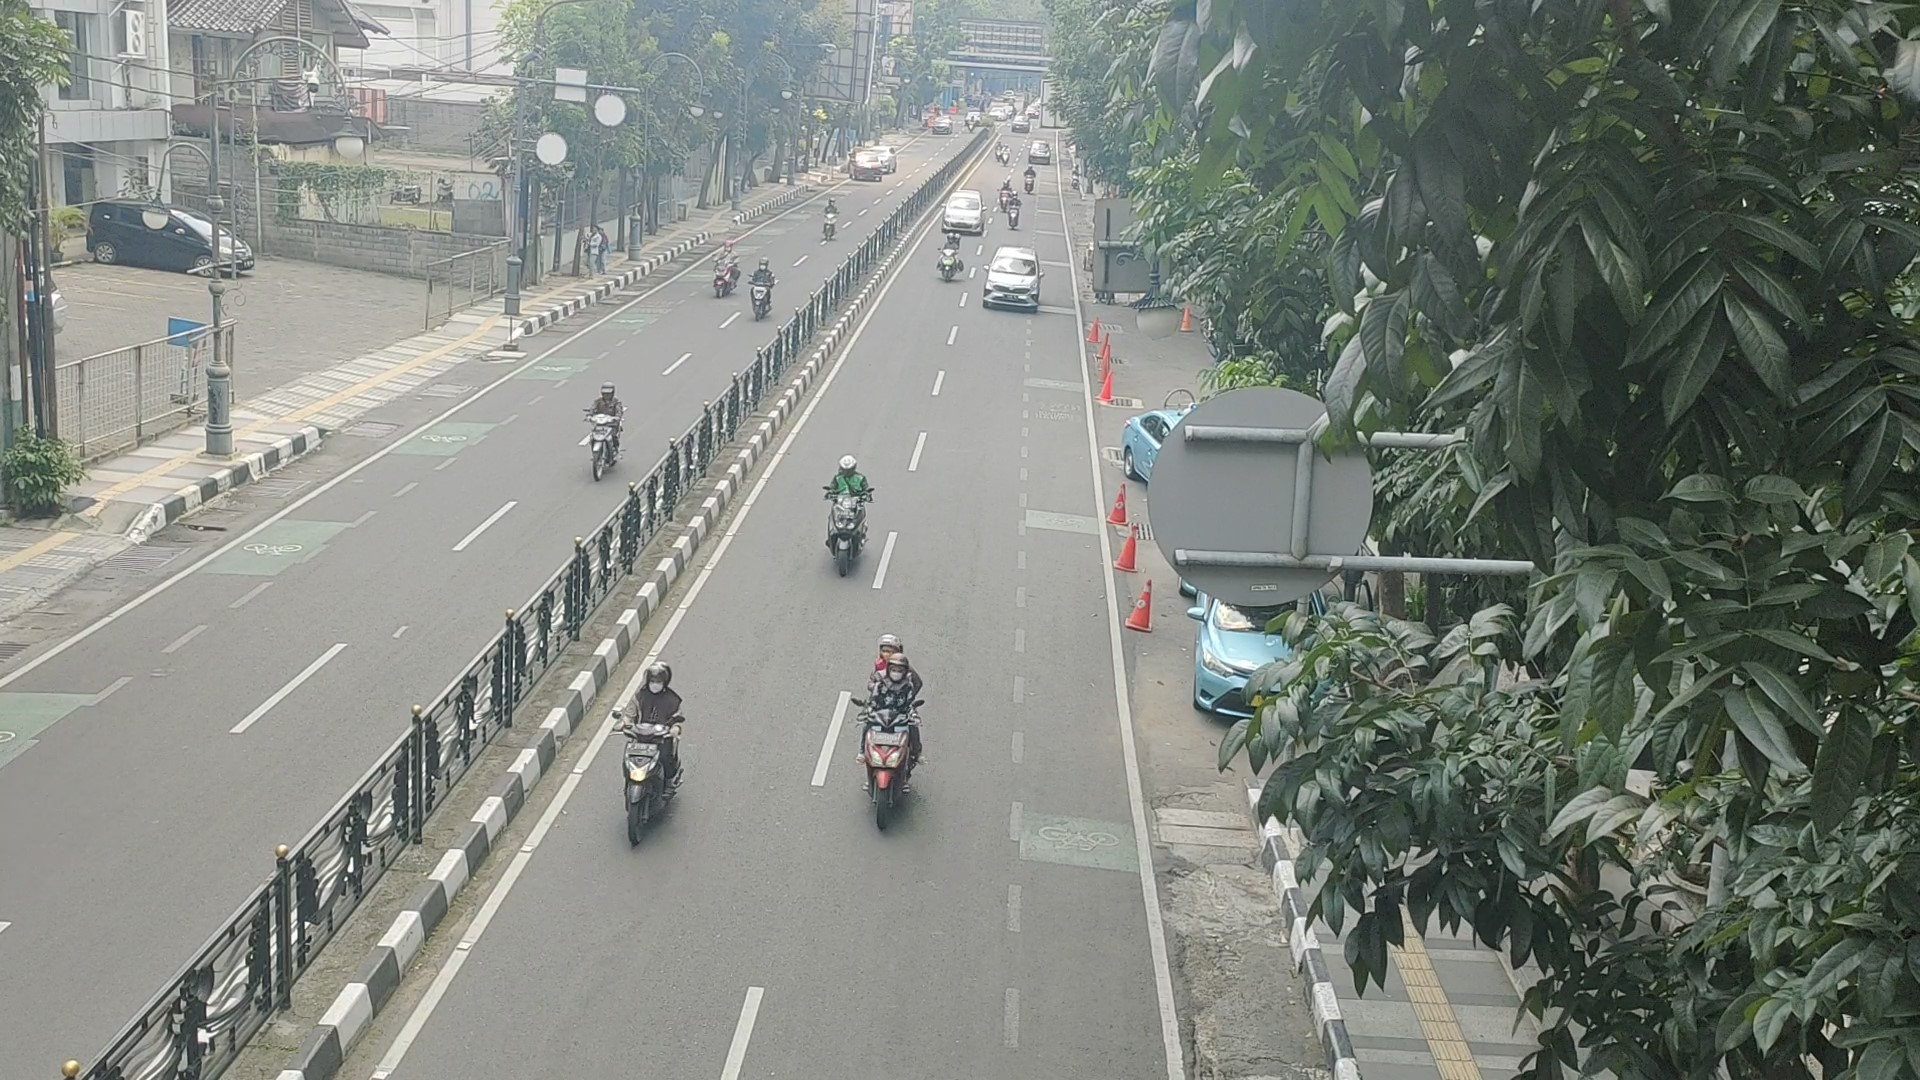mobil: (982, 241, 1044, 313), (942, 185, 986, 236)
motor: (847, 629, 936, 840), (609, 659, 692, 858), (818, 454, 878, 582), (580, 378, 628, 485), (745, 251, 779, 328), (705, 237, 746, 301), (934, 227, 967, 287), (815, 194, 843, 251), (1004, 190, 1025, 231)
